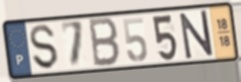5: (151, 12, 180, 62), (121, 15, 149, 63)
7: (59, 21, 86, 70)
B: (88, 16, 122, 69)
N: (178, 8, 215, 62)
S: (29, 24, 60, 72)
